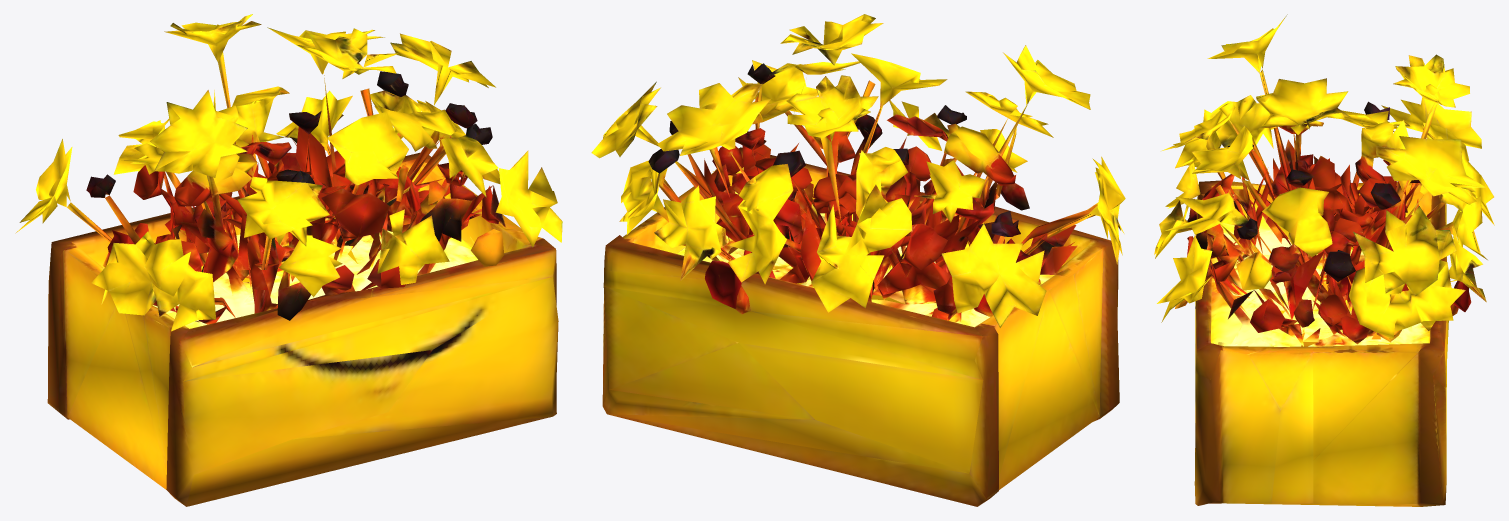
The model's file is clay-planter.glb.
3 renders of one model, left to right at view 1: azimuth 30°, elevation 25°; view 2: azimuth 150°, elevation 25°; view 3: azimuth 270°, elevation 25°, orthographic. The views are drawn at different scales.
Size of the model in its own units: 1.9 by 1.48 by 1.32.
Materials: 1 (1 with a texture image).
